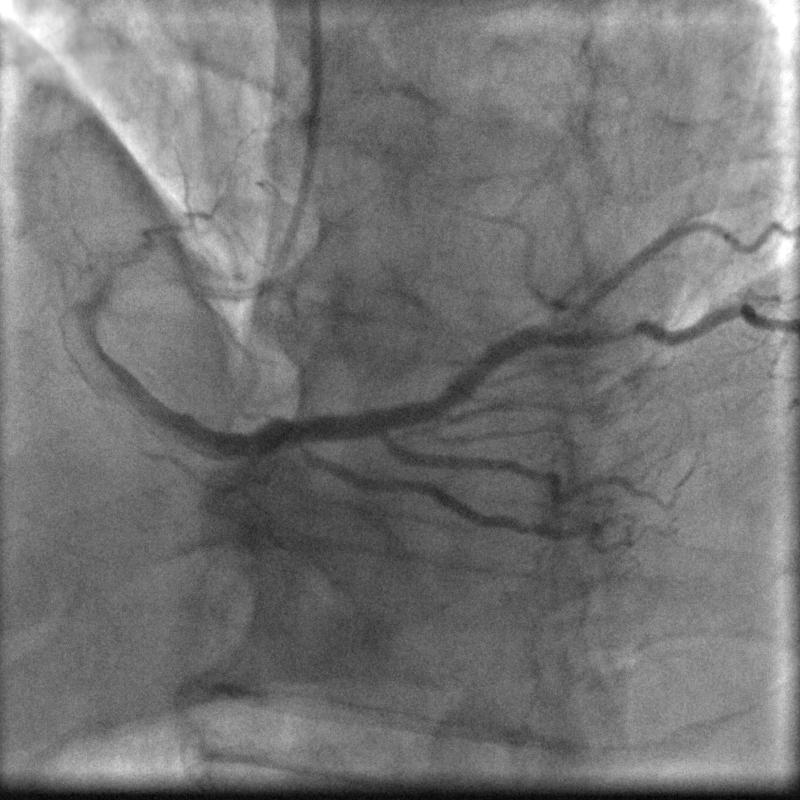Stenosis: (583, 314, 645, 344)
